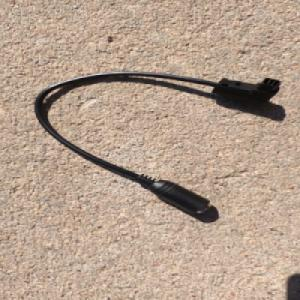Wire: (33, 70, 282, 214)
